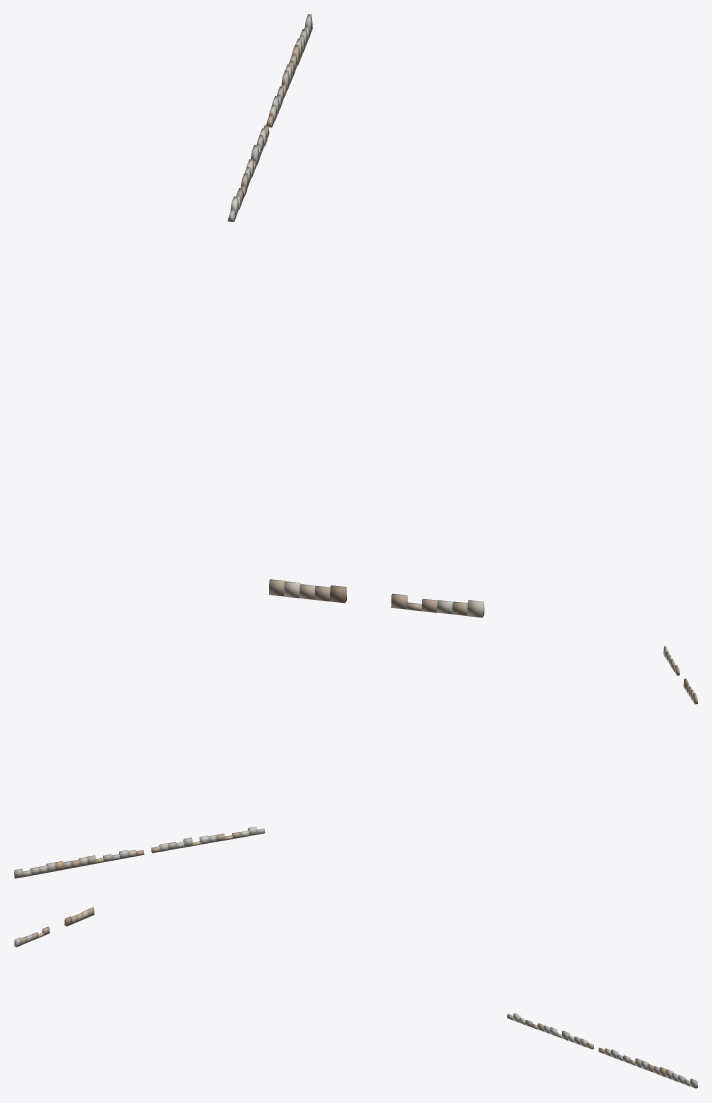
Rendered from farm_6_20_collision.glb.
The picture shows the model from 3 angles, top to bottom: view 1: azimuth 30°, elevation 25°; view 2: azimuth 150°, elevation 25°; view 3: azimuth 270°, elevation 25°; orthographic projection. The views are drawn at different scales.
Parts seen in each view (by area): view 1: geometry_0; view 2: geometry_0; view 3: geometry_0.
Boxes of the visible parts, x1,y1,x2,y2 form: geometry_0: (227, 14, 484, 617); geometry_0: (14, 646, 697, 878); geometry_0: (14, 907, 697, 1088).
Size of the model in its own units: 74.13 by 5.32 by 136.
